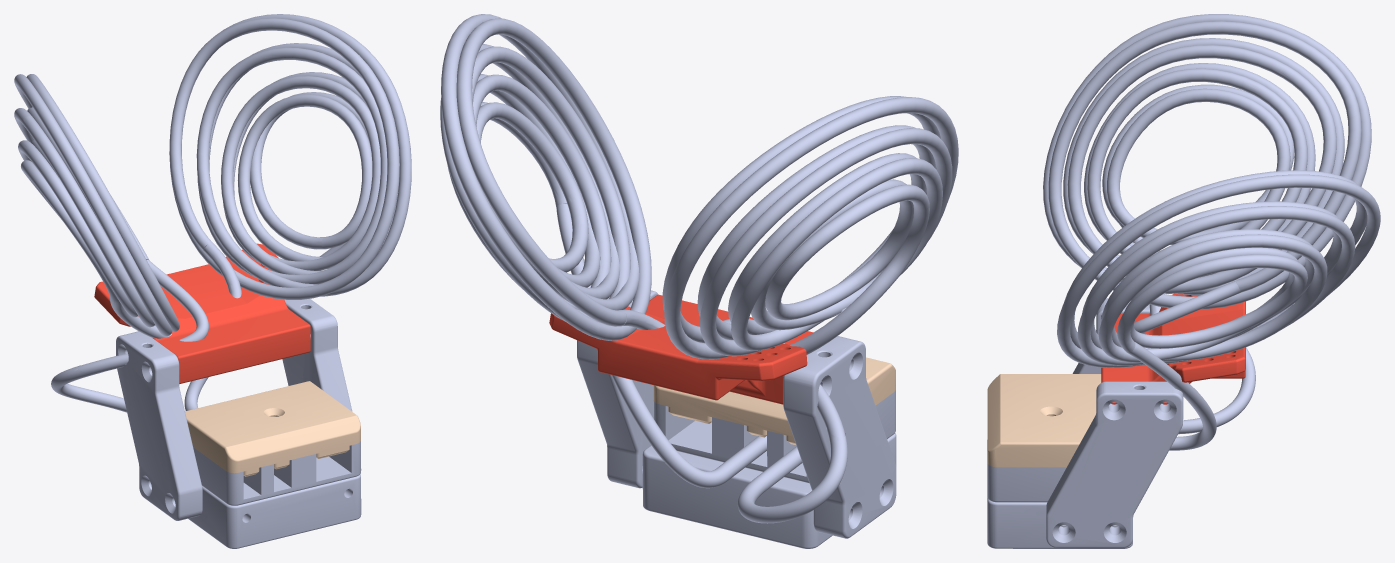
The picture shows the model from 3 angles, left to right: view 1: azimuth 30°, elevation 25°; view 2: azimuth 150°, elevation 25°; view 3: azimuth 270°, elevation 25°; orthographic projection. The views are drawn at different scales.
Parts seen in each view (by area): view 1: VIFS008, VIFS002, VIFS004, VIFS001, VIFS005, VIFS006, VIFS003, VIFS010, VIFS012; view 2: VIFS008, VIFS001, VIFS004, VIFS005, VIFS003, VIFS006, VIFS002, VIFS012, VIFS011, VIFS010, VIFS009; view 3: VIFS008, VIFS003, VIFS002, VIFS004, VIFS005, VIFS006, VIFS010, VIFS012, VIFS009, VIFS011, VIFS001.
Part boxes in pixels (x1=…): VIFS008: x1=14, y1=14, x2=411, y2=338; VIFS002: x1=185, y1=381, x2=360, y2=476; VIFS004: x1=94, y1=243, x2=310, y2=383; VIFS001: x1=116, y1=331, x2=202, y2=520; VIFS005: x1=188, y1=474, x2=361, y2=548; VIFS006: x1=193, y1=441, x2=360, y2=505; VIFS003: x1=282, y1=299, x2=361, y2=473; VIFS010: x1=77, y1=259, x2=208, y2=373; VIFS012: x1=51, y1=365, x2=126, y2=412; VIFS008: x1=440, y1=14, x2=958, y2=359; VIFS001: x1=783, y1=336, x2=896, y2=538; VIFS004: x1=549, y1=294, x2=813, y2=404; VIFS005: x1=642, y1=433, x2=896, y2=548; VIFS003: x1=577, y1=290, x2=658, y2=488; VIFS006: x1=653, y1=390, x2=895, y2=483; VIFS002: x1=653, y1=357, x2=895, y2=444; VIFS012: x1=737, y1=427, x2=847, y2=523; VIFS011: x1=611, y1=375, x2=766, y2=488; VIFS010: x1=723, y1=319, x2=845, y2=437; VIFS009: x1=556, y1=203, x2=591, y2=287; VIFS008: x1=1043, y1=14, x2=1380, y2=367; VIFS003: x1=1046, y1=381, x2=1183, y2=547; VIFS002: x1=987, y1=374, x2=1101, y2=467; VIFS004: x1=1101, y1=293, x2=1245, y2=404; VIFS005: x1=987, y1=440, x2=1132, y2=548; VIFS006: x1=987, y1=464, x2=1066, y2=502; VIFS010: x1=1134, y1=280, x2=1241, y2=333; VIFS012: x1=1178, y1=347, x2=1255, y2=434; VIFS009: x1=1128, y1=342, x2=1198, y2=403; VIFS011: x1=1169, y1=388, x2=1216, y2=450; VIFS001: x1=1072, y1=298, x2=1149, y2=373.
Bounding box in the file's own units: 0.1634 × 0.1823 × 0.1539.
